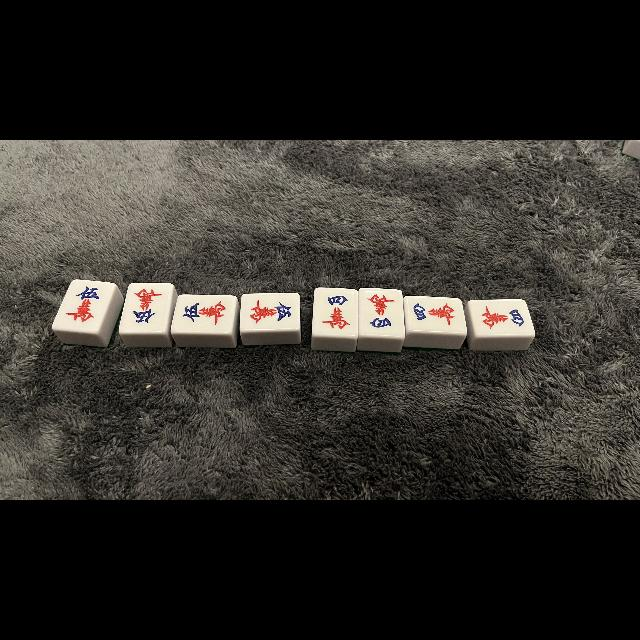c4: (406, 296, 464, 334), (472, 300, 530, 334), (360, 289, 402, 335), (316, 289, 356, 335)
c5: (62, 280, 108, 330), (125, 284, 169, 332), (174, 296, 232, 332), (242, 294, 298, 328)
